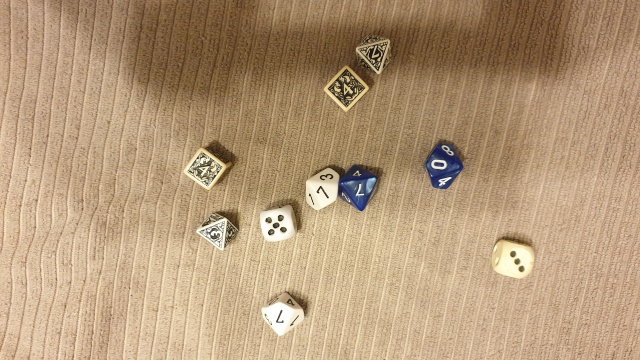d10-10: (420, 139, 465, 194)
d10-7: (257, 284, 308, 340), (336, 163, 383, 214), (301, 165, 340, 214)
d6-3: (487, 233, 536, 283)
d6-5: (258, 203, 298, 243)
d6p-4: (322, 63, 371, 115), (182, 145, 233, 193)
d8p-3: (195, 211, 243, 255)
d8p-7: (351, 29, 396, 77)
